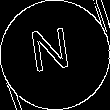N_S: (32, 28, 78, 82)
